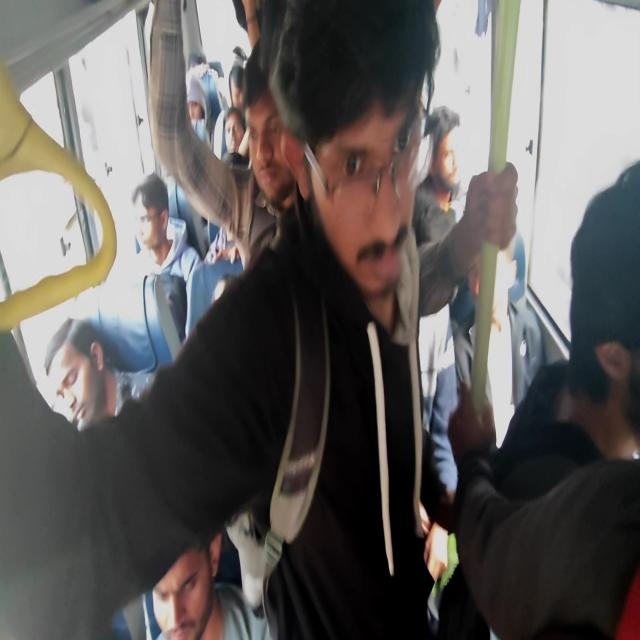person: (298, 61, 480, 425), (578, 205, 640, 428), (143, 534, 234, 640), (41, 339, 103, 431), (247, 68, 286, 196), (133, 185, 170, 242), (180, 72, 215, 120), (223, 117, 252, 162), (224, 74, 248, 117)
